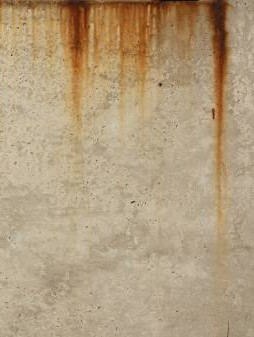Corrosion: (204, 1, 228, 233), (108, 1, 150, 130), (57, 1, 91, 135), (175, 1, 199, 62), (151, 1, 169, 50)
Exposed reinforcement: (210, 107, 215, 121)
